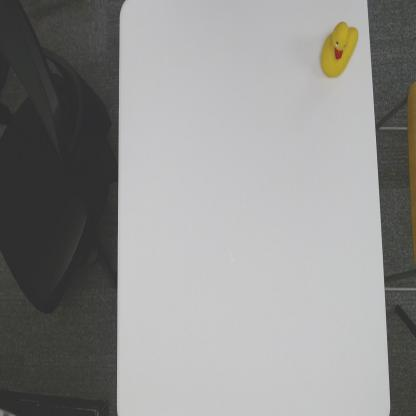Duck: (320, 20, 359, 80)
